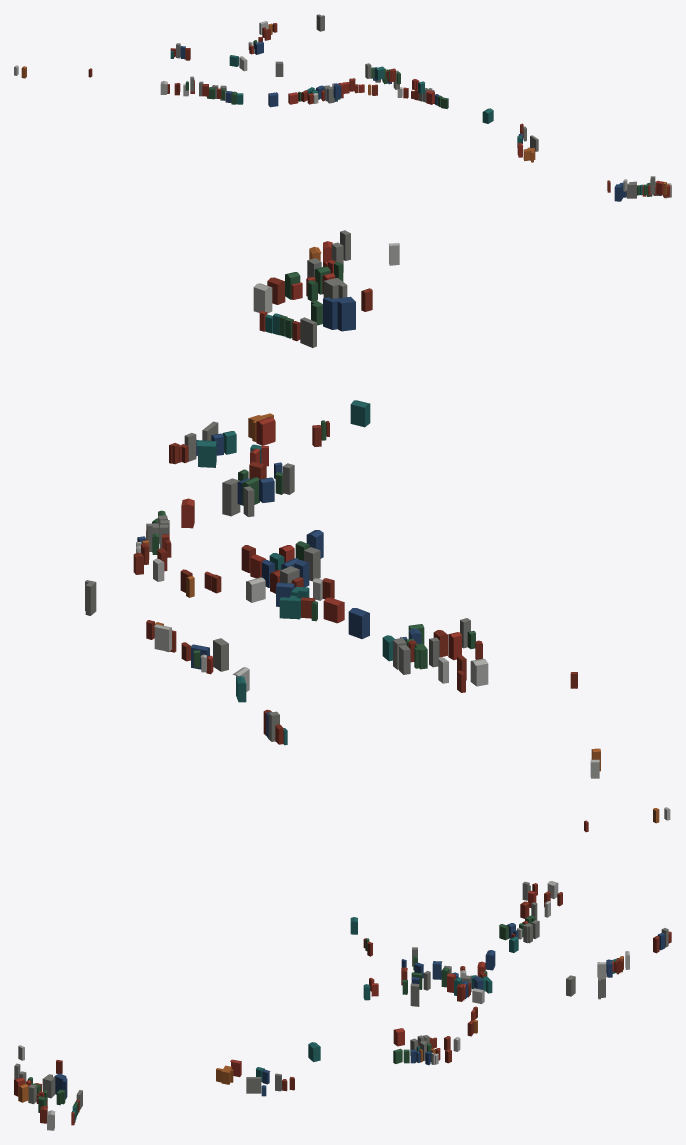
File: near-15-27362-14875.fd8805b8.glb
3 renders of one model, top to bottom at view 1: azimuth 30°, elevation 25°; view 2: azimuth 150°, elevation 25°; view 3: azimuth 270°, elevation 25°, orthographic. The views are drawn at different scales.
Size of the model in its own units: 832 by 161 by 901.
